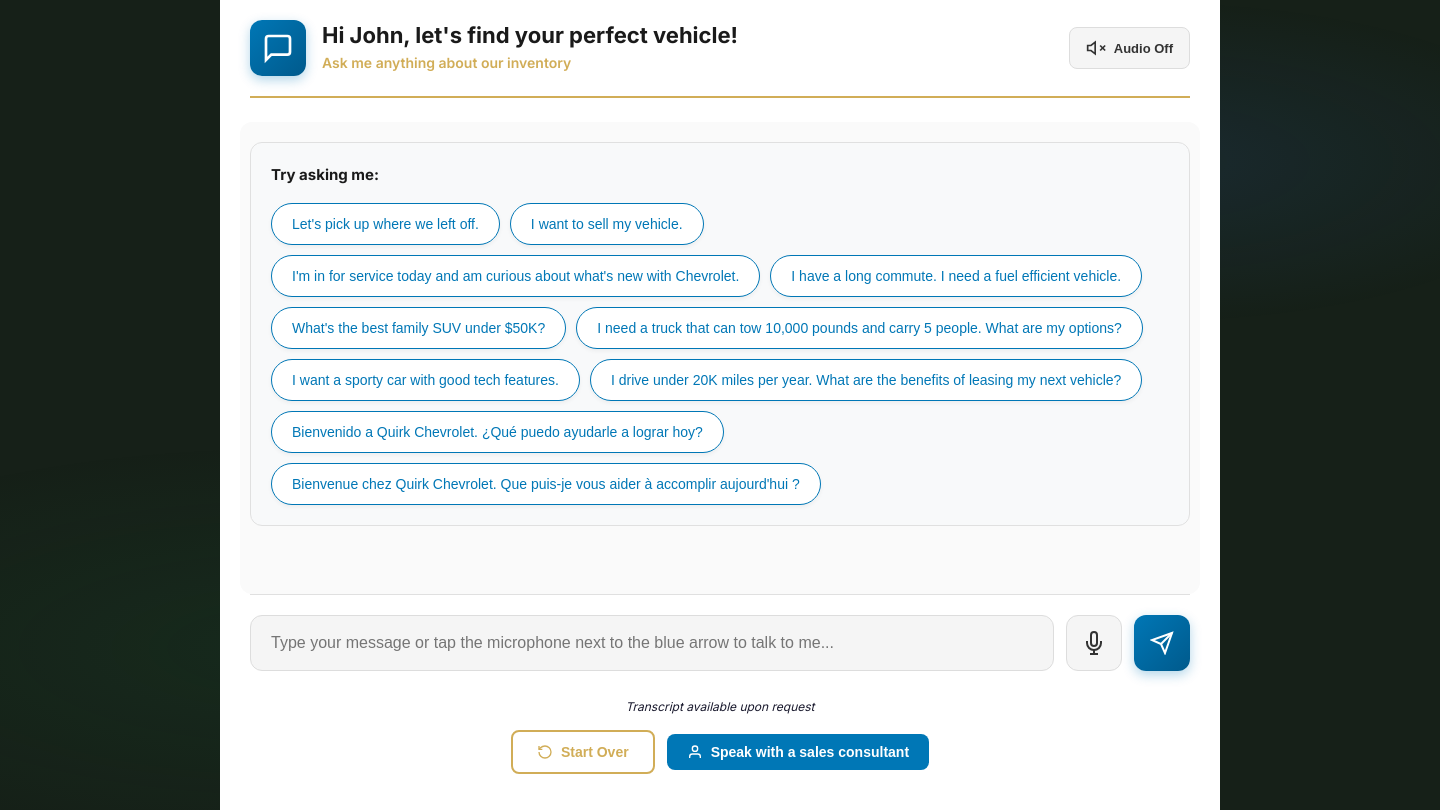
Scenario: AIAssistant Component › Audio Toggle › clicking audio button toggles audio state
Expected: the text "Audio Off" is shown, [1114,40,1173,56]
Click the button "Audio Off" at (1129, 48), box [1069,27,1190,69]
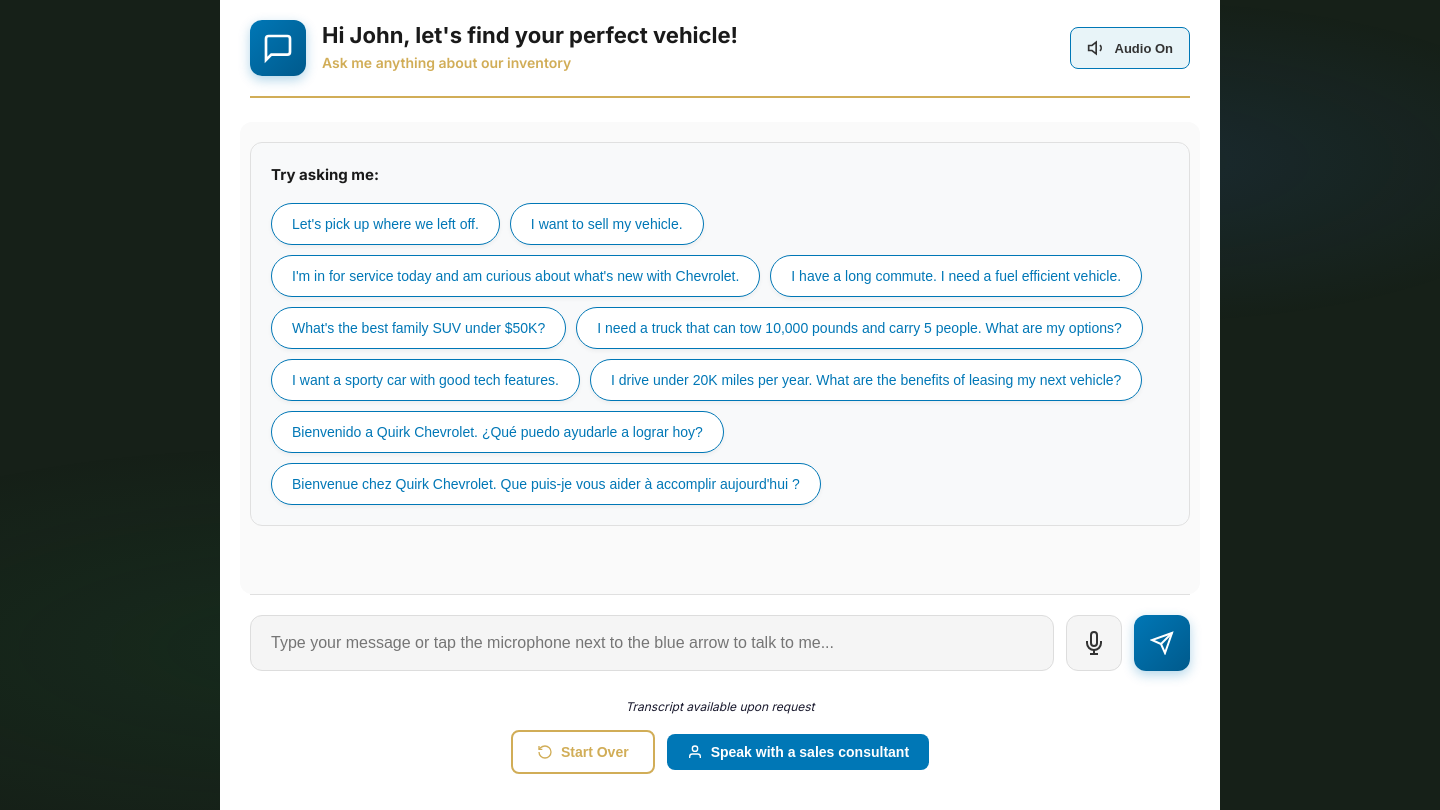
Now the text "Audio On" is shown, box [1114,40,1173,56]
